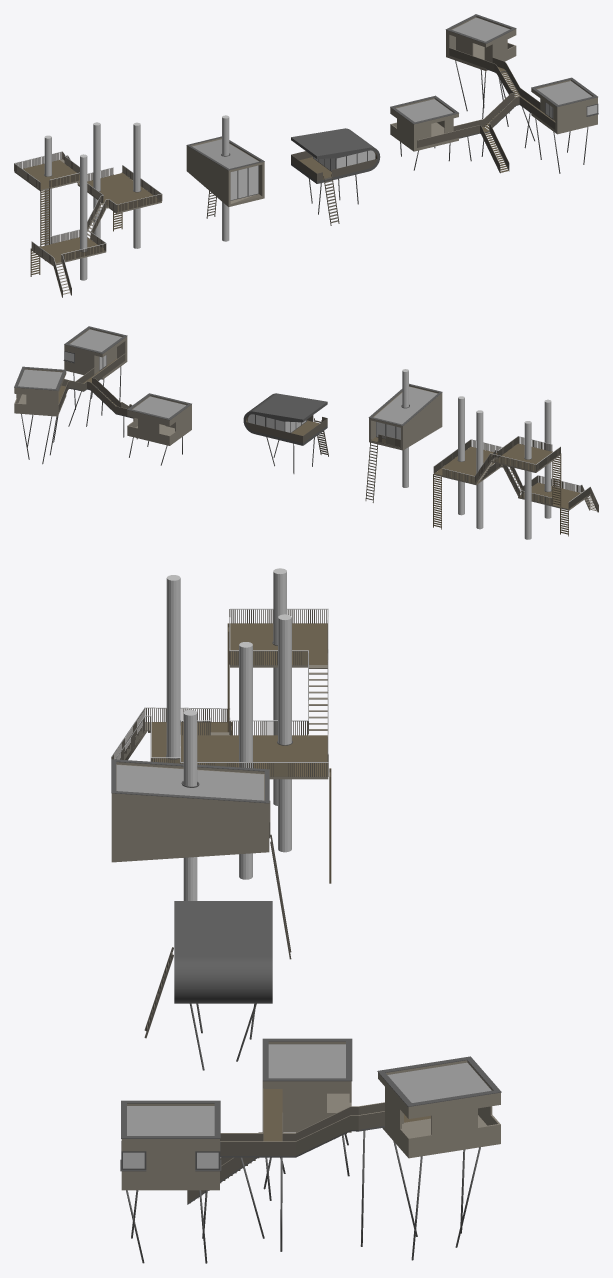
The model's file is baumhäuser_frederic_uvmapped.obj.
3 views of the same model, one above another, from view 1: azimuth 30°, elevation 25°; view 2: azimuth 150°, elevation 25°; view 3: azimuth 270°, elevation 25° (orthographic). The views are drawn at different scales.
Visible parts, largest first — view 1: Plattformen_Mesh.003, Geländer_Mesh.001, Bäume_Mesh, Baumhaus_3_2_Mesh.007, Brüstung_2_Mesh.017, Baumhaus_01_Instance_Mesh.020, Baumhaus_01_Instance_1_Mesh.020, Baumhaus_01_Mesh.020, Baumhaus_2_2_Mesh.010, Leitern_Mesh.004, Stahlstützen_2_Mesh.018, Glas_Mesh.009 (+6 smaller); view 2: Plattformen_Mesh.003, Bäume_Mesh, Baumhaus_3_2_Mesh.007, Geländer_Mesh.001, Baumhaus_01_Instance_1_Mesh.020, Baumhaus_01_Instance_Mesh.020, Baumhaus_01_Mesh.020, Baumhaus_2_2_Mesh.010, Brüstung_2_Mesh.017, Leitern_Mesh.004, Stahlstützen_2_Mesh.018, Brüstung_Mesh.012 (+5 smaller); view 3: Baumhaus_3_2_Mesh.007, Baumhaus_2_2_Mesh.010, Baumhaus_01_Instance_Mesh.020, Plattformen_Mesh.003, Bäume_Mesh, Baumhaus_01_Mesh.020, Baumhaus_01_Instance_1_Mesh.020, Brüstung_2_Mesh.017, Geländer_Mesh.001, Stahlstützen_2_Mesh.018, Baum_Mesh.005, Handlauf_Mesh.002.
Part boxes in pixels (x1=…): Plattformen_Mesh.003: x1=14, y1=159, x2=161, y2=296; Geländer_Mesh.001: x1=14, y1=152, x2=162, y2=297; Bäume_Mesh: x1=44, y1=122, x2=140, y2=280; Baumhaus_3_2_Mesh.007: x1=186, y1=136, x2=264, y2=206; Brüstung_2_Mesh.017: x1=417, y1=48, x2=555, y2=172; Baumhaus_01_Instance_Mesh.020: x1=445, y1=14, x2=516, y2=70; Baumhaus_01_Instance_1_Mesh.020: x1=390, y1=95, x2=458, y2=151; Baumhaus_01_Mesh.020: x1=531, y1=77, x2=597, y2=134; Baumhaus_2_2_Mesh.010: x1=291, y1=128, x2=380, y2=183; Leitern_Mesh.004: x1=30, y1=172, x2=122, y2=276; Stahlstützen_2_Mesh.018: x1=400, y1=60, x2=588, y2=173; Glas_Mesh.009: x1=230, y1=165, x2=258, y2=199; Plattformen_Mesh.003: x1=434, y1=443, x2=598, y2=512; Bäume_Mesh: x1=458, y1=396, x2=551, y2=539; Baumhaus_3_2_Mesh.007: x1=368, y1=383, x2=442, y2=450; Geländer_Mesh.001: x1=433, y1=436, x2=598, y2=511; Baumhaus_01_Instance_1_Mesh.020: x1=127, y1=393, x2=191, y2=445; Baumhaus_01_Instance_Mesh.020: x1=14, y1=366, x2=66, y2=416; Baumhaus_01_Mesh.020: x1=64, y1=326, x2=127, y2=379; Baumhaus_2_2_Mesh.010: x1=243, y1=393, x2=327, y2=445; Brüstung_2_Mesh.017: x1=58, y1=354, x2=132, y2=417; Leitern_Mesh.004: x1=433, y1=451, x2=568, y2=536; Stahlstützen_2_Mesh.018: x1=21, y1=366, x2=182, y2=465; Brüstung_Mesh.012: x1=246, y1=415, x2=327, y2=442; Baumhaus_3_2_Mesh.007: x1=111, y1=759, x2=269, y2=862; Baumhaus_2_2_Mesh.010: x1=174, y1=901, x2=272, y2=1003; Baumhaus_01_Instance_Mesh.020: x1=377, y1=1056, x2=501, y2=1158; Plattformen_Mesh.003: x1=120, y1=623, x2=328, y2=779; Bäume_Mesh: x1=166, y1=568, x2=291, y2=879; Baumhaus_01_Mesh.020: x1=121, y1=1100, x2=220, y2=1190; Baumhaus_01_Instance_1_Mesh.020: x1=262, y1=1038, x2=352, y2=1132; Brüstung_2_Mesh.017: x1=187, y1=1103, x2=384, y2=1202; Geländer_Mesh.001: x1=111, y1=609, x2=328, y2=776; Stahlstützen_2_Mesh.018: x1=126, y1=1130, x2=480, y2=1263; Baum_Mesh.005: x1=183, y1=710, x2=197, y2=900; Handlauf_Mesh.002: x1=111, y1=608, x2=328, y2=762.
Bounding box in the file's own units: 59.64 × 13.02 × 19.84.
